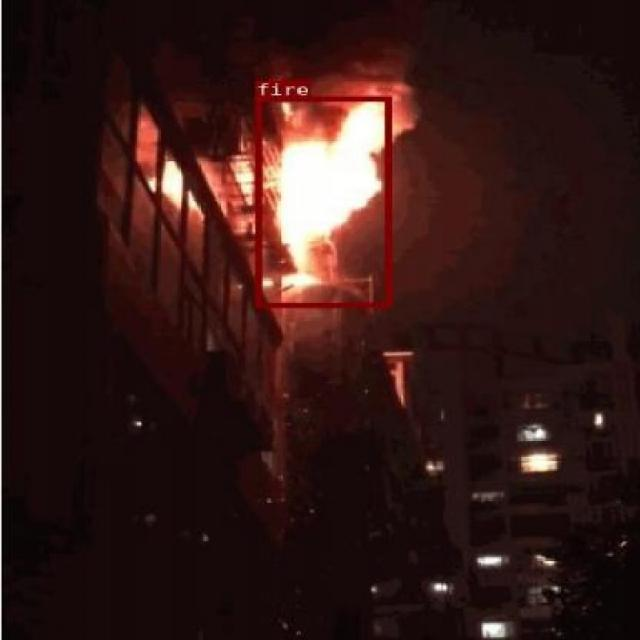Fire: (254, 95, 391, 308)
